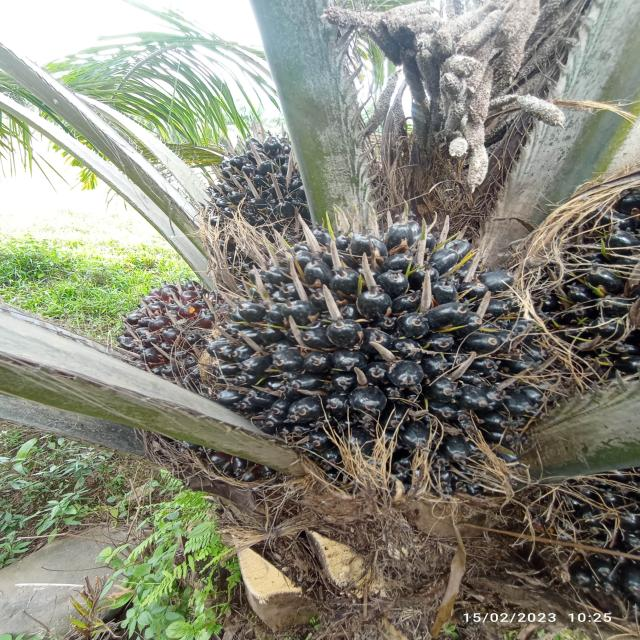fraksi 00: (212, 212, 538, 463), (183, 112, 361, 239), (84, 282, 248, 384)
